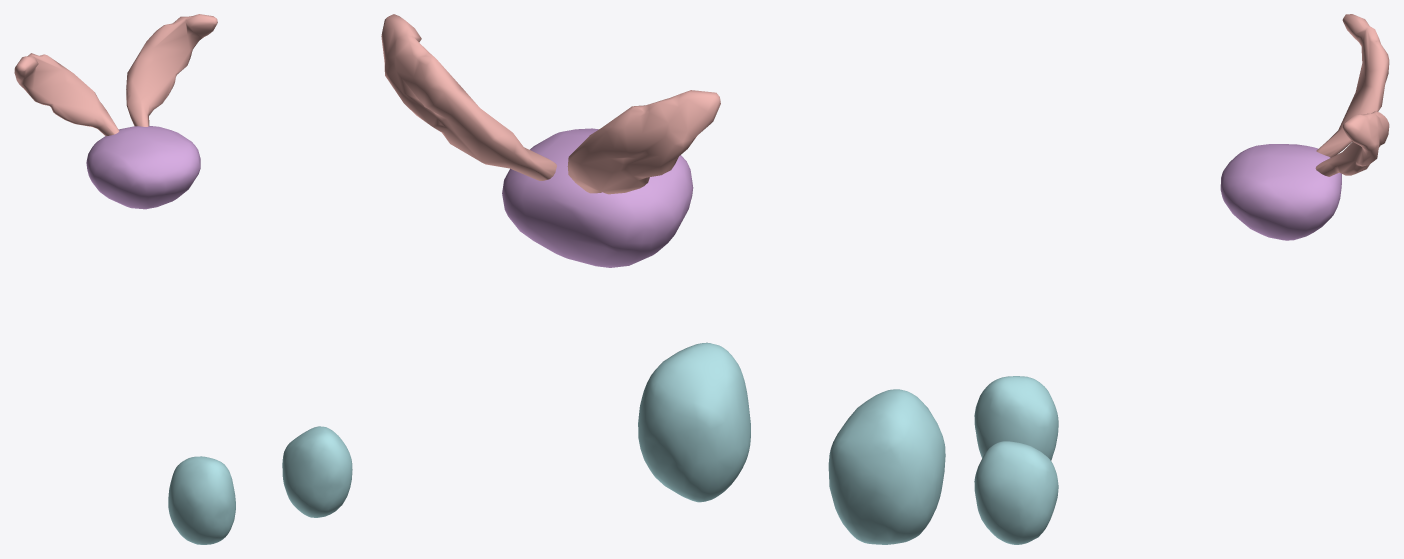
Rendered from pelvis-reproductive-mobile.glb.
The picture shows the model from 3 angles, left to right: view 1: azimuth 30°, elevation 25°; view 2: azimuth 150°, elevation 25°; view 3: azimuth 270°, elevation 25°; orthographic projection. The views are drawn at different scales.
Parts seen in each view (by area): view 1: organ.prostate, organ.testis.l, organ.testis.r, organ.seminal-gland.l, organ.seminal-gland.r; view 2: organ.prostate, organ.testis.r, organ.testis.l, organ.seminal-gland.l, organ.seminal-gland.r; view 3: organ.prostate, organ.testis.l, organ.testis.r, organ.seminal-gland.r, organ.seminal-gland.l.
Boxes of the visible parts, x1,y1,x2,y2 form: organ.prostate: (86, 126, 200, 209); organ.testis.l: (282, 426, 352, 517); organ.testis.r: (168, 456, 235, 544); organ.seminal-gland.l: (126, 14, 217, 126); organ.seminal-gland.r: (14, 53, 119, 136); organ.prostate: (502, 128, 693, 267); organ.testis.r: (828, 389, 945, 544); organ.testis.l: (638, 342, 750, 502); organ.seminal-gland.l: (381, 14, 556, 180); organ.seminal-gland.r: (567, 90, 720, 194); organ.prostate: (1220, 144, 1341, 240); organ.testis.l: (974, 441, 1058, 544); organ.testis.r: (974, 376, 1058, 460); organ.seminal-gland.r: (1316, 14, 1389, 157); organ.seminal-gland.l: (1315, 111, 1389, 176).
Size of the model in its own units: 0.0719 by 0.1322 by 0.1121.
